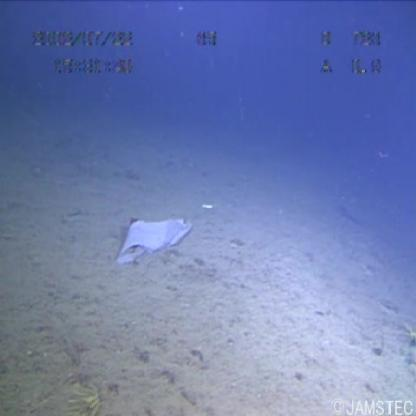Rác: (106, 212, 205, 270)
